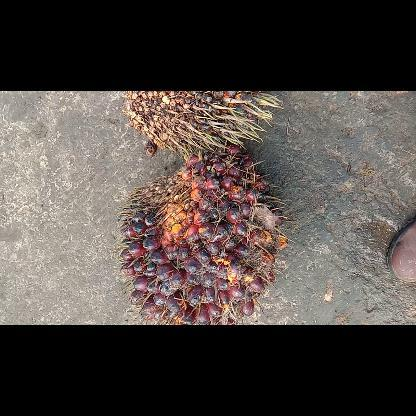Kurang masak: (122, 91, 284, 157)
TBS abnormal: (110, 146, 290, 324)
